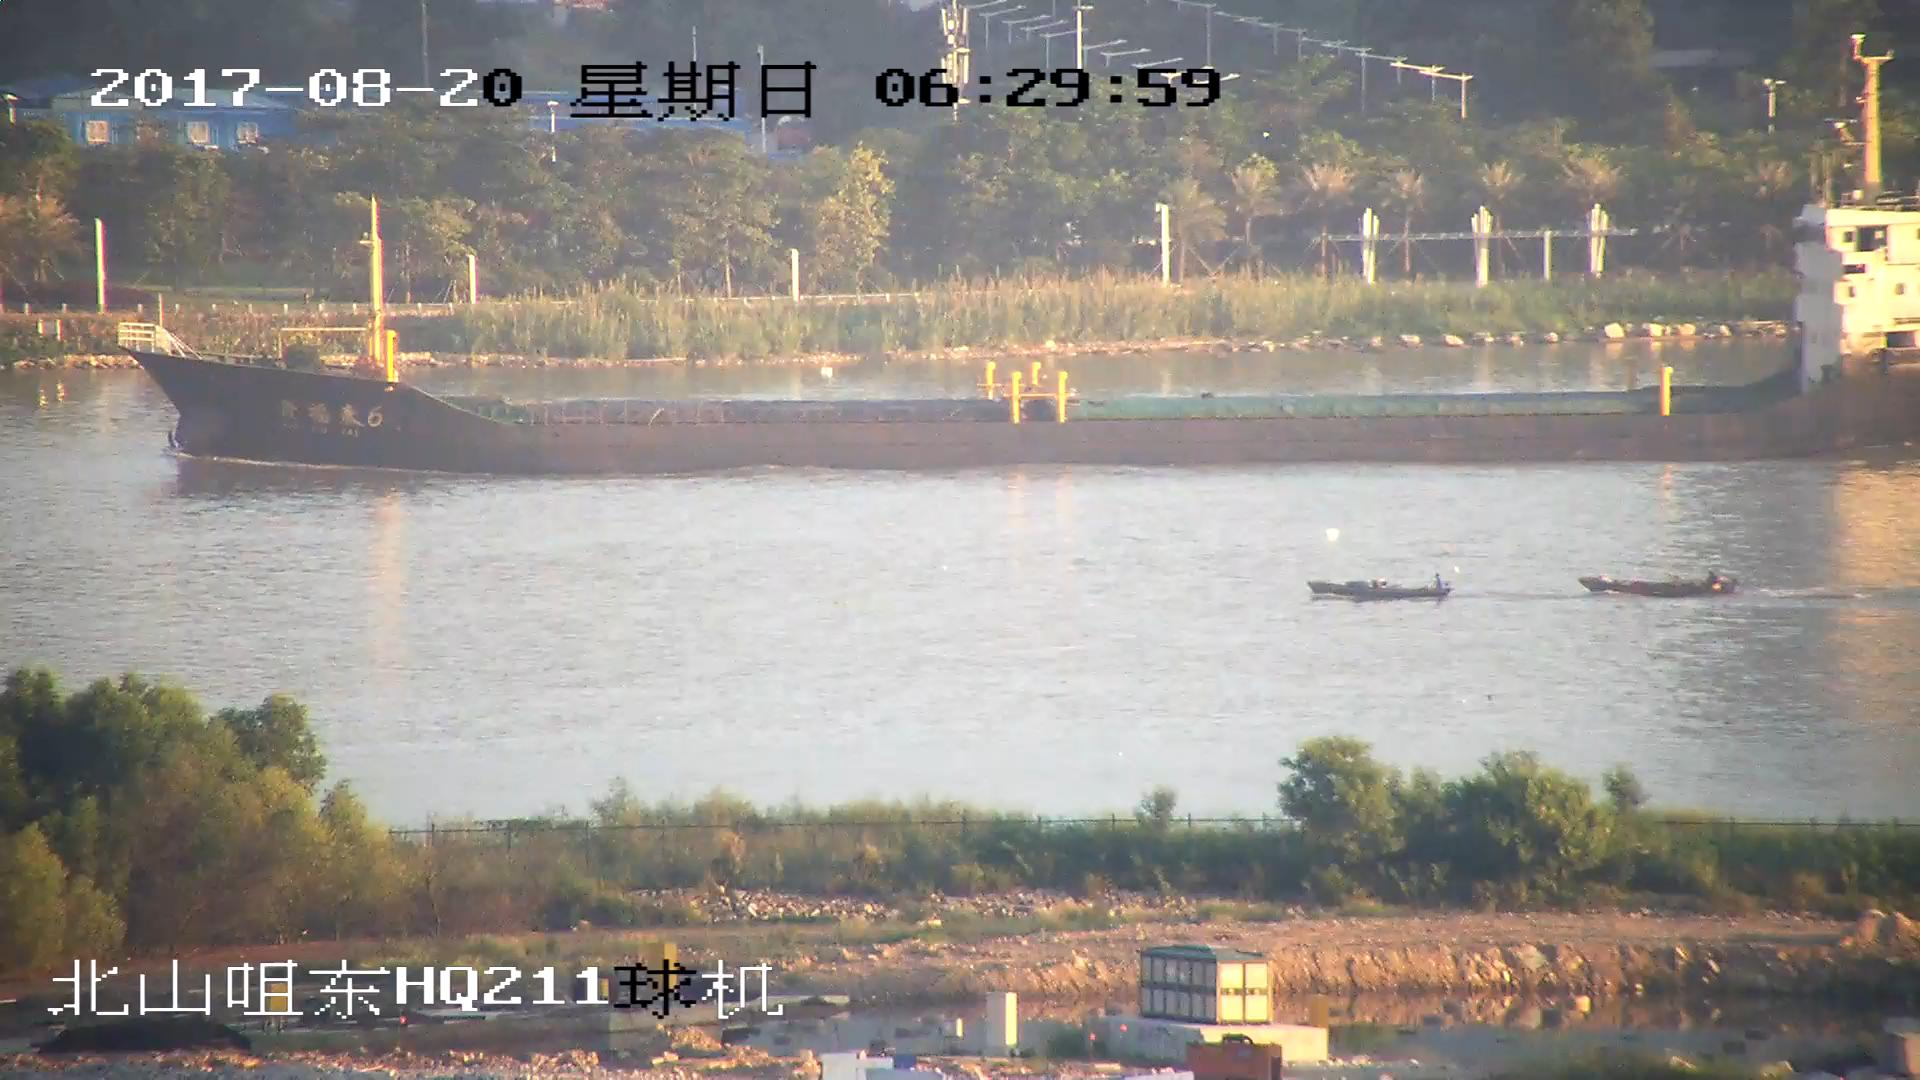fishing boat: (1585, 570, 1733, 602), (1309, 570, 1455, 602)
general cargo ship: (117, 118, 1920, 480)
